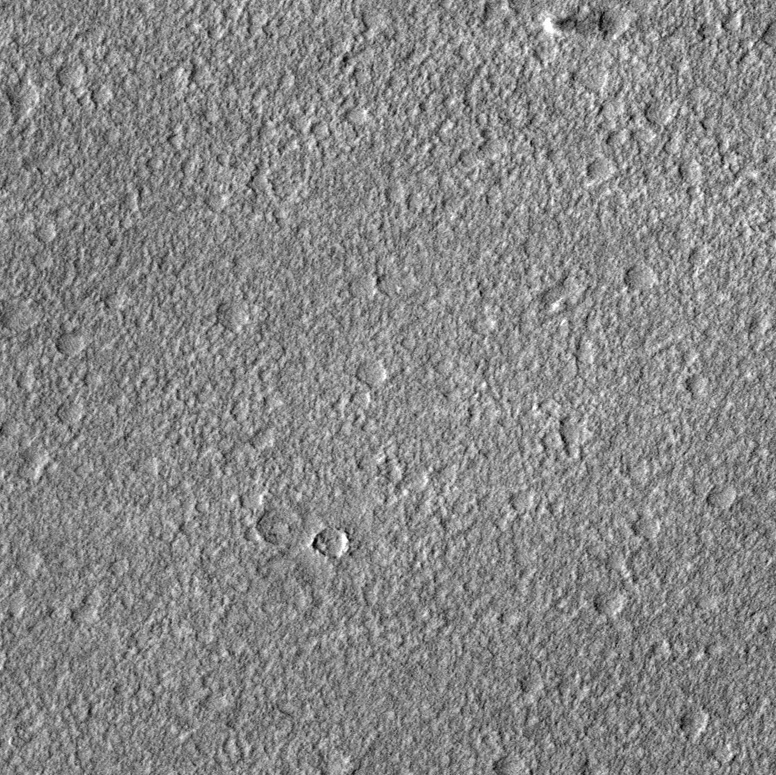dust_devil: (541, 5, 620, 41)
